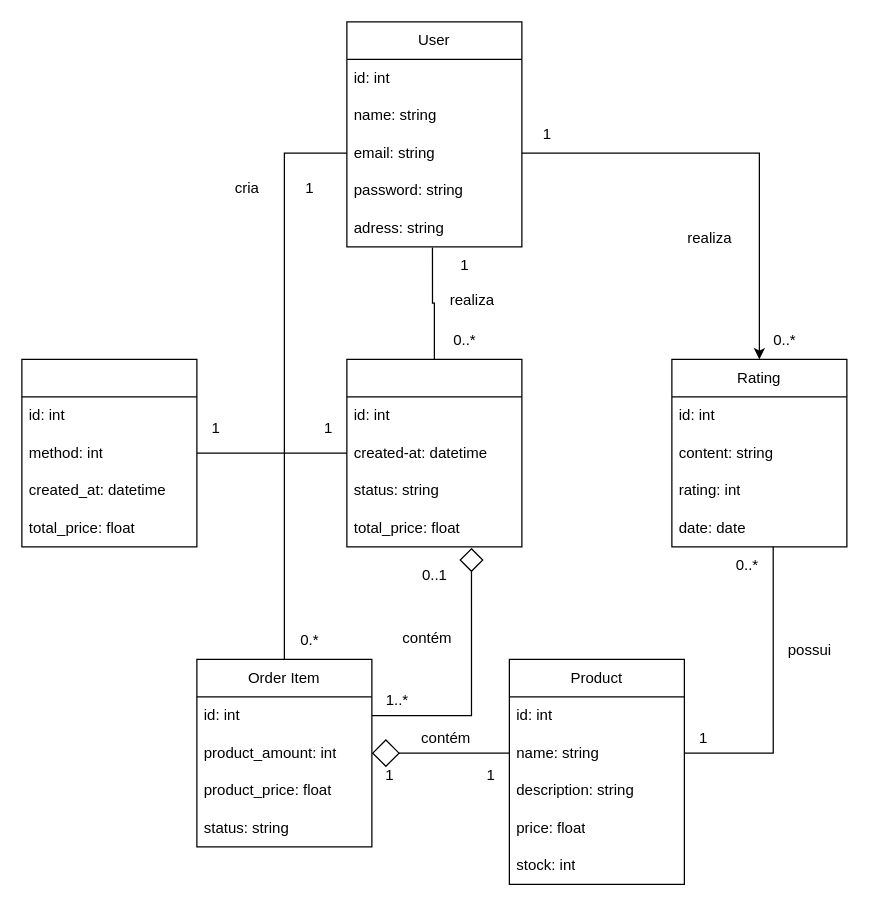
Some shapes in this 869 by 906 pixel diagram are drawn without their labels. The box of each missing label's shape, as (x1, y1, x2, y2) in pixels:
Order: (346, 358, 522, 547)
Payment: (21, 358, 197, 547)
